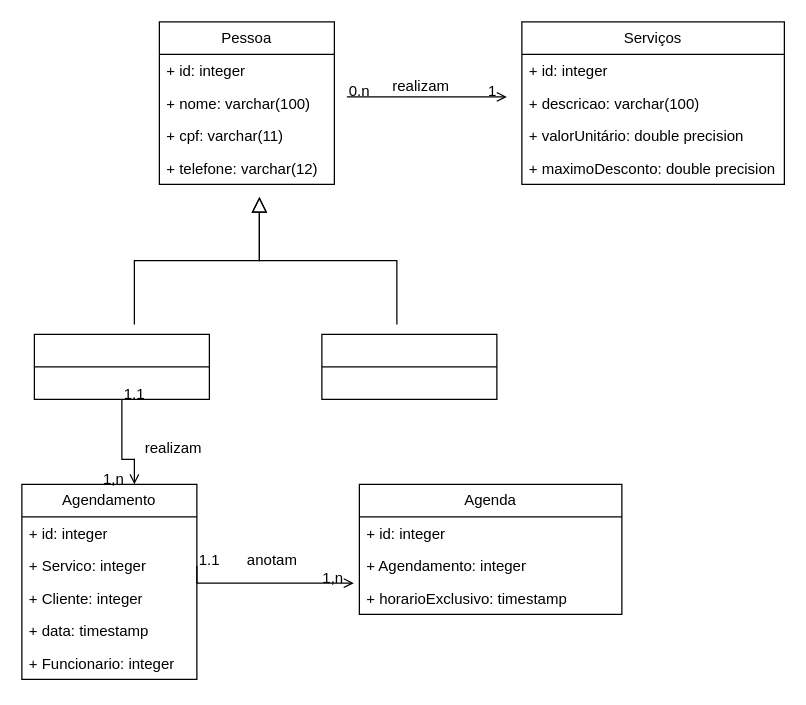
Some shapes in this 806 by 705 pixel diagram are drawn without their labels. The shapes that lost their labels are listed below. From the top down, each one's centre as x and y in pixels, then its label:
At pixel 121 366: "Funcionario".
At pixel 409 366: "Cliente".
